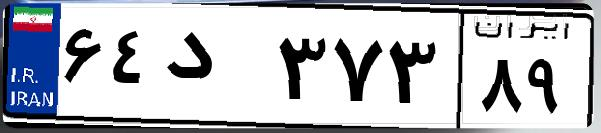3: (270, 28, 330, 110), (385, 28, 445, 110)
4: (110, 28, 158, 98)
6: (57, 26, 110, 100)
7: (330, 28, 385, 110)
8: (475, 38, 525, 113)
9: (525, 38, 570, 115)
د: (158, 20, 270, 120)
